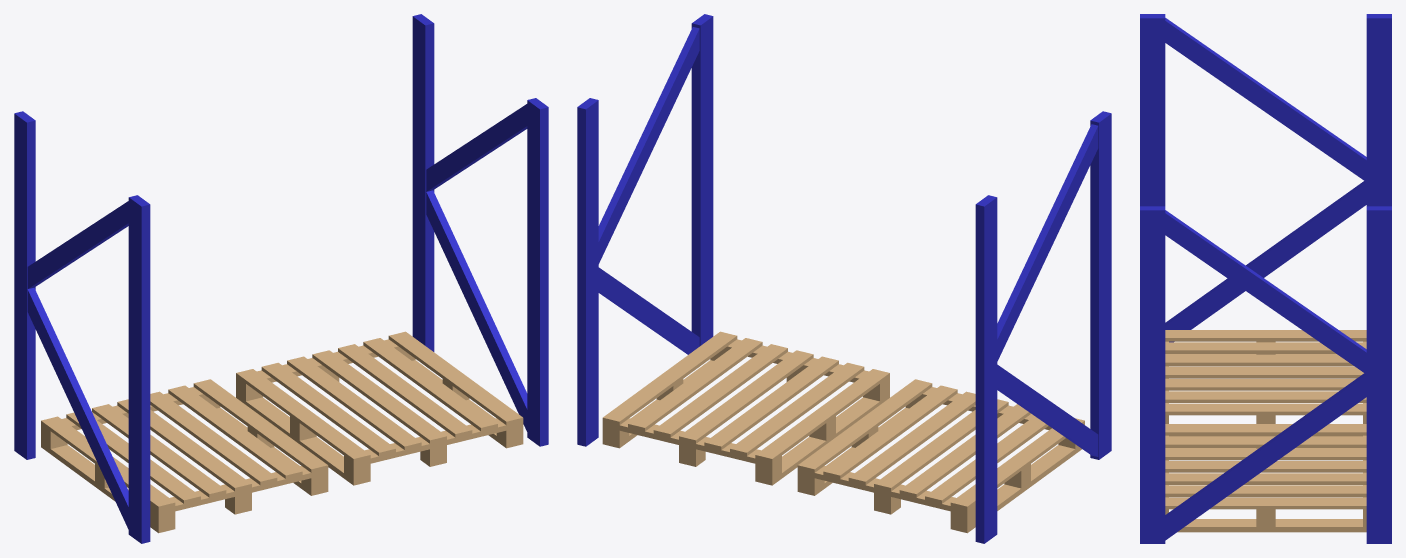
File: Longarina_Separado_2pallets_chão_pronto.glb
3 renders of one model, left to right at view 1: azimuth 30°, elevation 25°; view 2: azimuth 150°, elevation 25°; view 3: azimuth 270°, elevation 25°, orthographic.
Visible parts, largest first — view 1: Barras_Laterais, Cube.002, Cube.005, Cube, Cube.003, Cube.004, Cube.001, Cube.006; view 2: Barras_Laterais, Cube.002, Cube.005, Cube.004, Cube.001, Cube, Cube.003, Cube.006; view 3: Barras_Laterais, Cube.002, Cube.005, Cube.003, Cube.004, Cube.001, Cube, Cube.006.
Boxes of the visible parts, <box> form: Barras_Laterais: <box>14,14,548,543</box>; Cube.002: <box>236,331,523,485</box>; Cube.005: <box>41,379,328,533</box>; Cube: <box>27,288,128,529</box>; Cube.003: <box>426,190,527,431</box>; Cube.004: <box>426,104,527,191</box>; Cube.001: <box>27,201,128,285</box>; Cube.006: <box>27,201,128,288</box>; Barras_Laterais: <box>577,14,1111,543</box>; Cube.002: <box>602,331,889,485</box>; Cube.005: <box>797,379,1084,533</box>; Cube.004: <box>598,27,699,263</box>; Cube.001: <box>997,125,1098,353</box>; Cube: <box>997,364,1098,456</box>; Cube.003: <box>598,267,699,354</box>; Cube.006: <box>997,124,1098,361</box>; Barras_Laterais: <box>1140,14,1391,543</box>; Cube.002: <box>1165,424,1366,532</box>; Cube.005: <box>1165,330,1366,436</box>; Cube.003: <box>1165,373,1366,540</box>; Cube.004: <box>1165,210,1366,374</box>; Cube.001: <box>1165,21,1366,181</box>; Cube: <box>1165,181,1366,342</box>; Cube.006: <box>1165,18,1366,179</box>.
Bounding box in the file's own units: 2.4 × 1.9 × 1.3.
